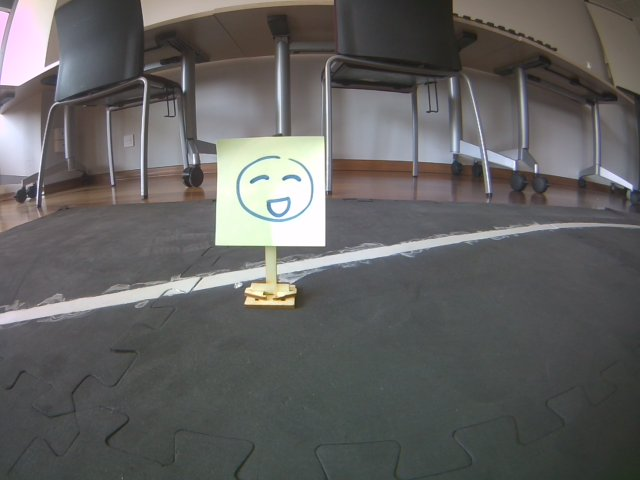Smiley: (213, 135, 329, 251)
